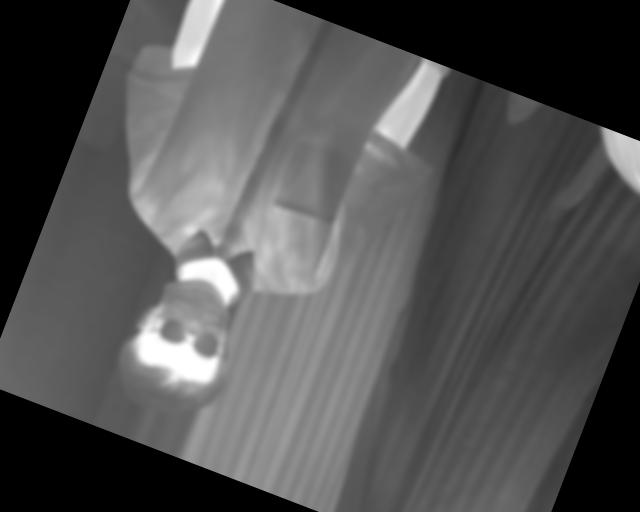face: (99, 258, 261, 432)
